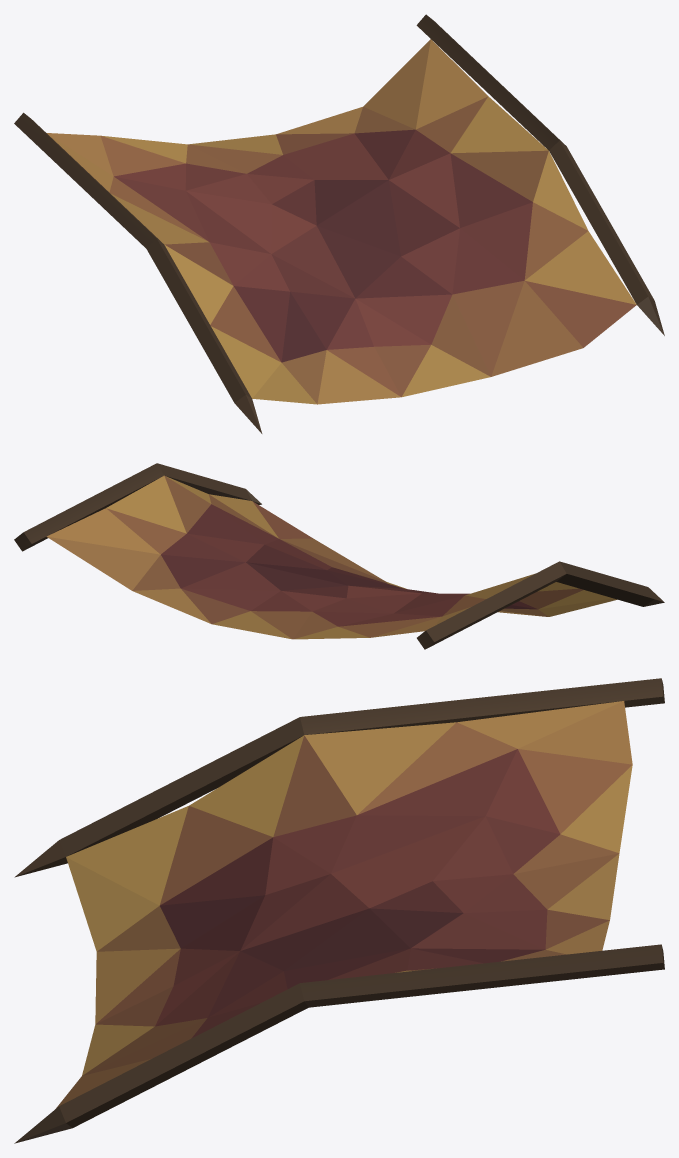
File: Prop_OverhangB.fbx
3 views of the same model, one above another, from view 1: azimuth 30°, elevation 25°; view 2: azimuth 150°, elevation 25°; view 3: azimuth 270°, elevation 25° (orthographic). The views are drawn at different scales.
Visible parts, largest first — view 1: Prop_OverhangB; view 2: Prop_OverhangB; view 3: Prop_OverhangB.
Part boxes in pixels (bbox=[...]): Prop_OverhangB: bbox=[14, 14, 664, 433]; Prop_OverhangB: bbox=[14, 463, 664, 649]; Prop_OverhangB: bbox=[14, 678, 664, 1143].
Size of the model in its own units: 250 by 98.36 by 247.
